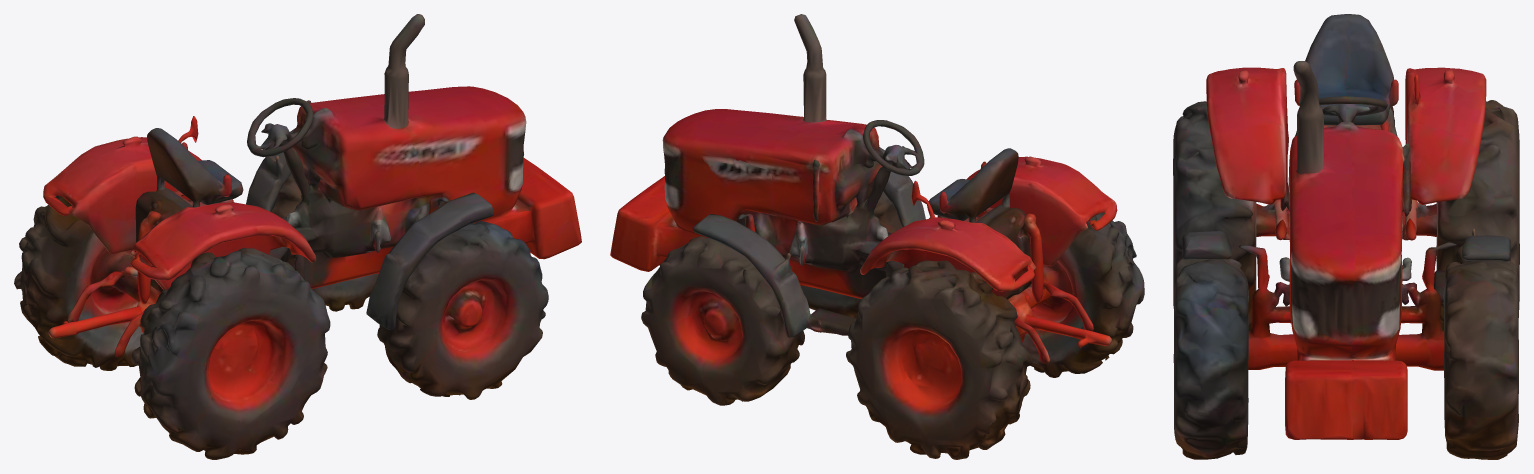
The model's file is farm_tractor.glb.
3 views of the same model, side by side, from view 1: azimuth 30°, elevation 25°; view 2: azimuth 150°, elevation 25°; view 3: azimuth 270°, elevation 25° (orthographic). The views are drawn at different scales.
Parts seen in each view (by area): view 1: tripo_node_eef2e8f0-5d26-4386-9bc0-bf74201cf93c; view 2: tripo_node_eef2e8f0-5d26-4386-9bc0-bf74201cf93c; view 3: tripo_node_eef2e8f0-5d26-4386-9bc0-bf74201cf93c.
Boxes of the visible parts, x1,y1,x2,y2 form: tripo_node_eef2e8f0-5d26-4386-9bc0-bf74201cf93c: (14, 14, 581, 459); tripo_node_eef2e8f0-5d26-4386-9bc0-bf74201cf93c: (610, 14, 1144, 459); tripo_node_eef2e8f0-5d26-4386-9bc0-bf74201cf93c: (1173, 14, 1519, 459).
Bounding box in the file's own units: 0.9508 × 0.6266 × 0.5043.
1 material, 1 textured.
